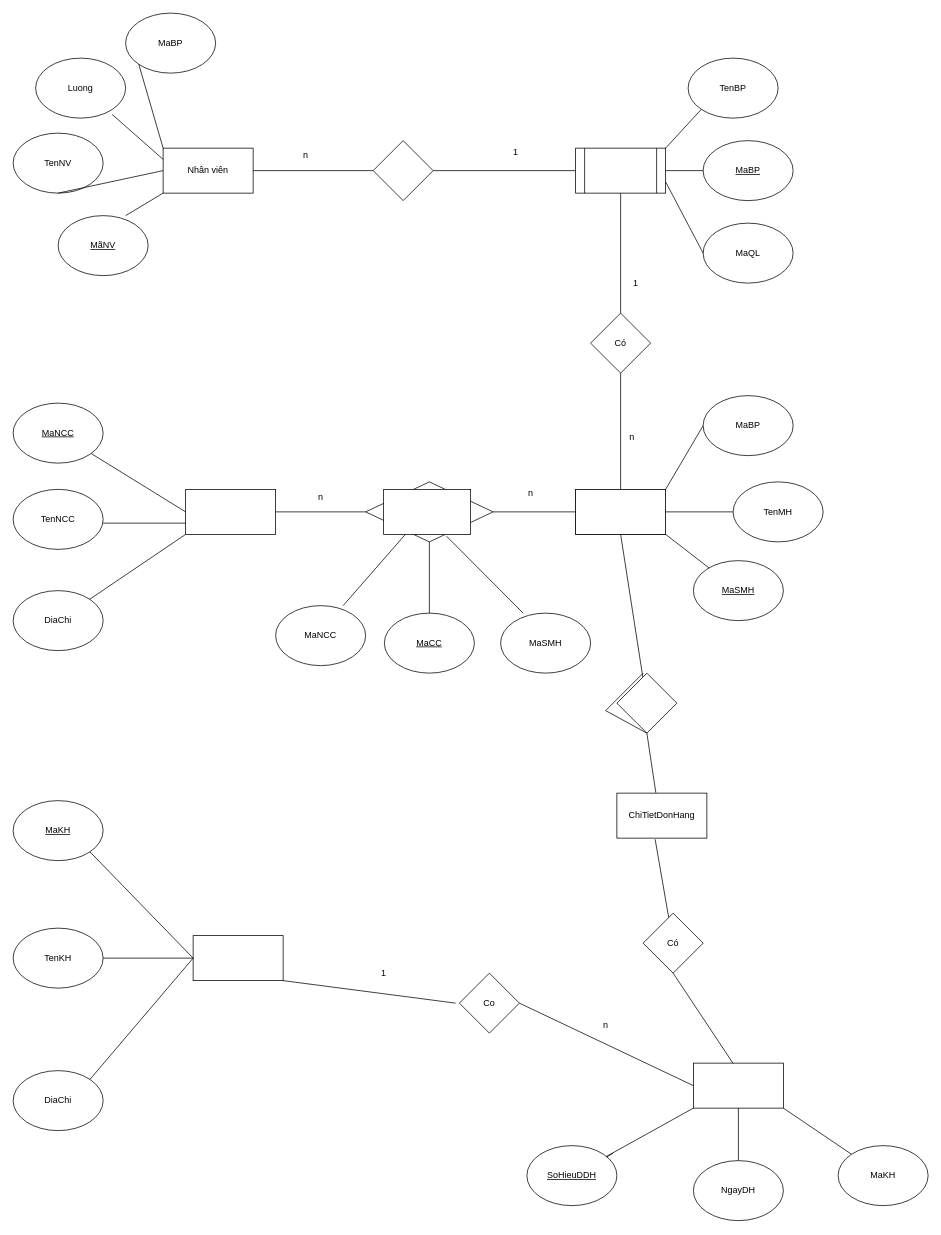
Some shapes in this 941 by 1235 pixel diagram are drawn without their labels. Here are the shapes that lost their labels. From the top down, the centre of each, then its label:
At pixel 402 170: "Làm việc trong".
At pixel 620 170: "BoPhan".
At pixel 230 511: "NguoiCungCap".
At pixel 427 511: "CungCap".
At pixel 620 511: "MatHang".
At pixel 646 702: "Nằm trong".
At pixel 237 958: "KhachHang".
At pixel 738 1085: "DonDatHang".
